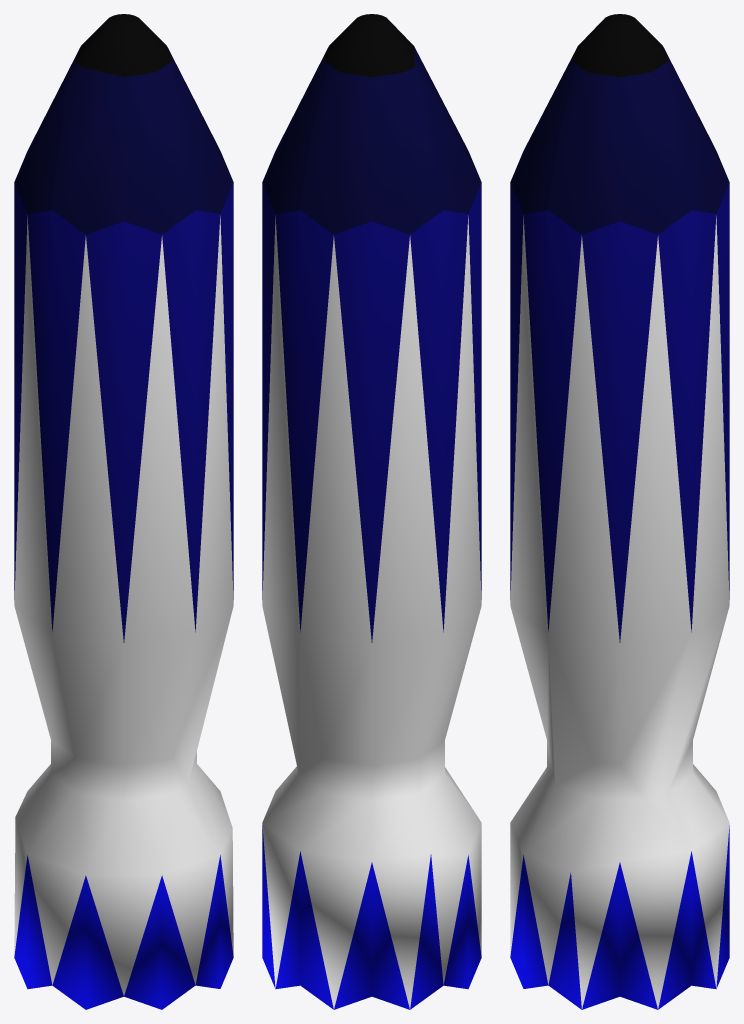
File: Ammo_Rocket.fbx
3 views of the same model, side by side, from view 1: azimuth 30°, elevation 25°; view 2: azimuth 150°, elevation 25°; view 3: azimuth 270°, elevation 25° (orthographic).
Parts seen in each view (by area): view 1: Cylinder001; view 2: Cylinder001; view 3: Cylinder001.
Part boxes in pixels (x1,y1,x2,y2): Cylinder001: (14, 14, 233, 1009); Cylinder001: (262, 14, 481, 1009); Cylinder001: (510, 14, 729, 1009).
Bounding box in the file's own units: 39.93 × 187 × 39.32.
